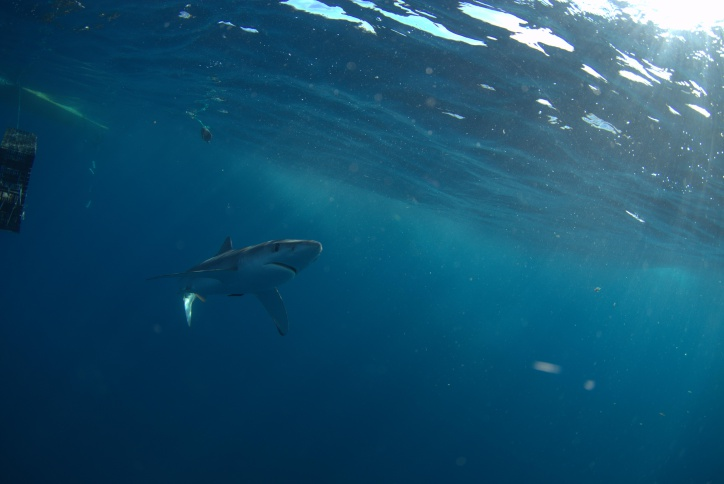Azul: (122, 217, 333, 355)
